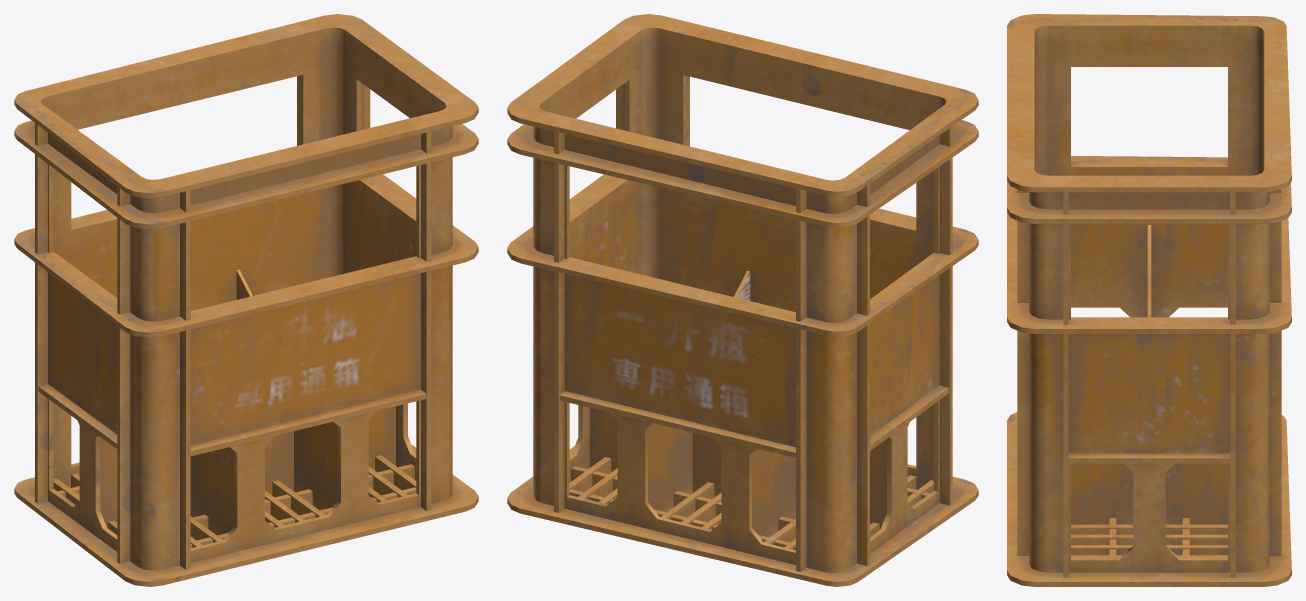
File: bottlecaseA.fbx
The picture shows the model from 3 angles, left to right: view 1: azimuth 30°, elevation 25°; view 2: azimuth 150°, elevation 25°; view 3: azimuth 270°, elevation 25°; orthographic projection.
Parts seen in each view (by area): view 1: bottlecaseA; view 2: bottlecaseA; view 3: bottlecaseA.
Part boxes in pixels (x1,y1,x2,y2): bottlecaseA: (14,14,478,586); bottlecaseA: (507,14,978,586); bottlecaseA: (1007,14,1291,586).
Size of the model in its own units: 39.23 by 43 by 27.23.
Materials: 1 (1 with a texture image).
